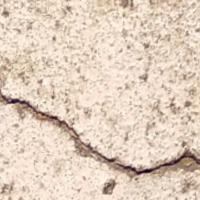crack: (1, 83, 199, 186)
